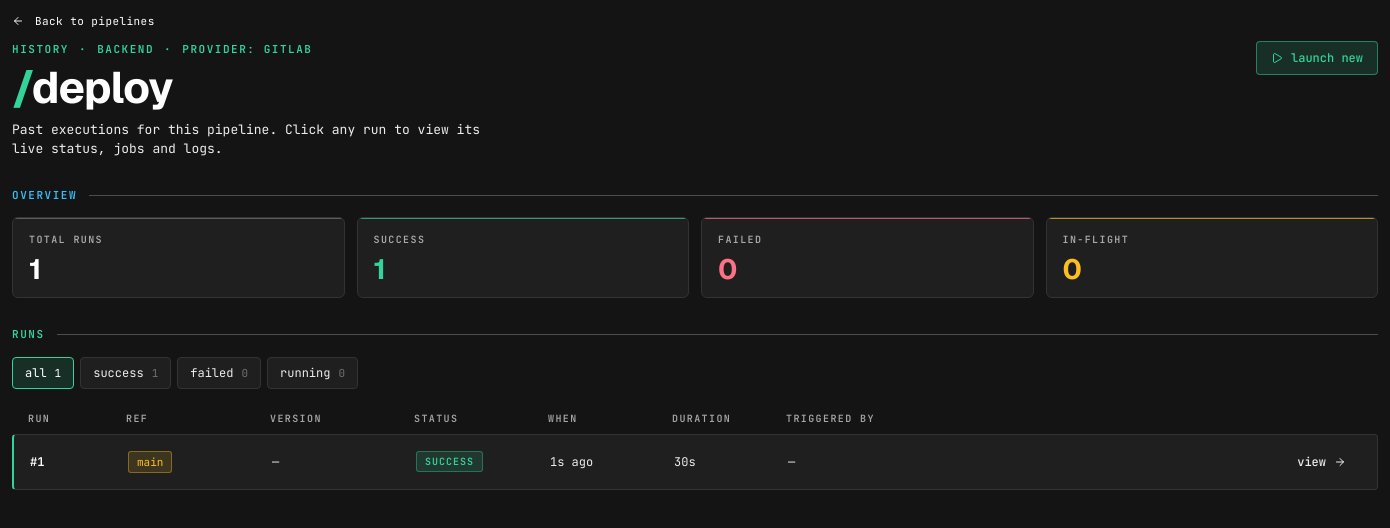
PipelineHistoryPage › renders the empty state when no runs match the filter
Expected: the text "#1" is shown, left=30, top=454, right=44, bottom=470
Click the button "failed 0".
click(219, 373)  # box left=177, top=357, right=261, bottom=389
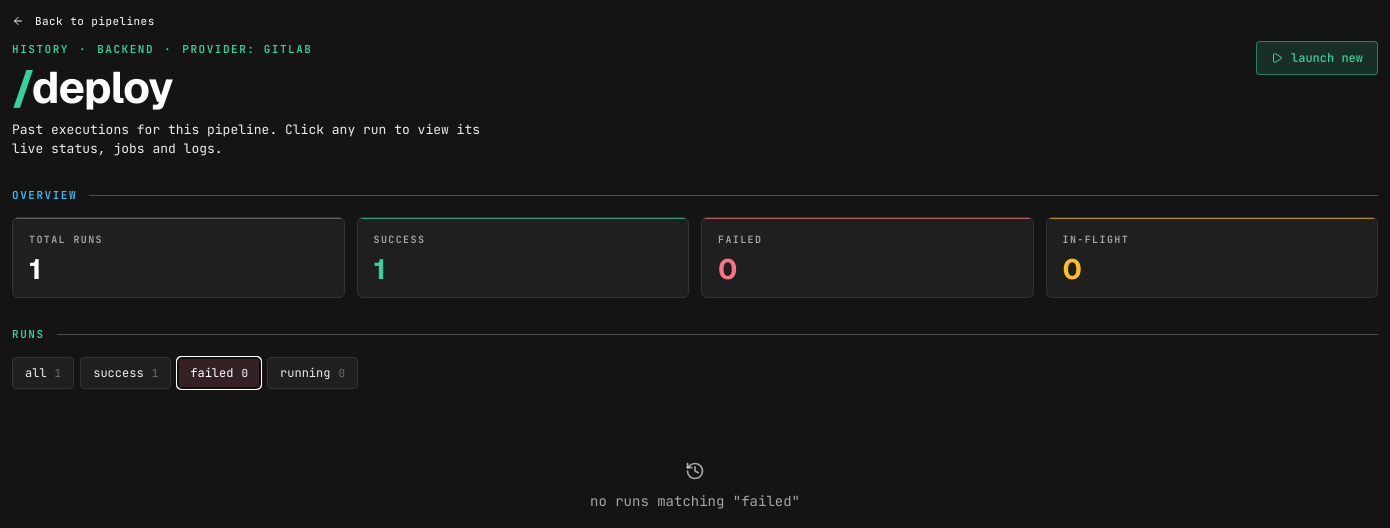
Expected: the text "no runs matching \"failed\"" is shown, left=590, top=491, right=800, bottom=512
